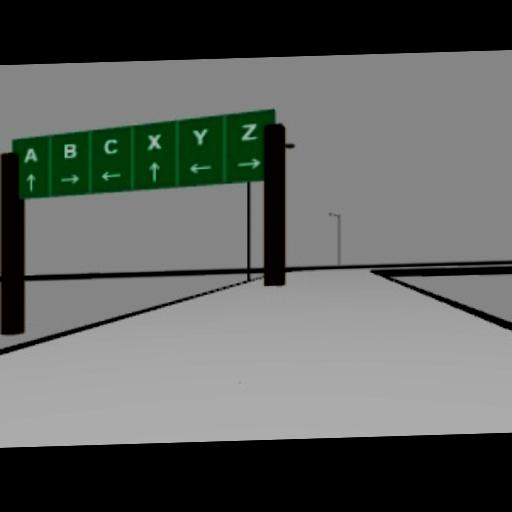A: (22, 146, 38, 162)
B: (63, 139, 77, 157)
C: (103, 137, 117, 152)
Left: (186, 161, 216, 173), (100, 169, 120, 180)
Right: (236, 156, 260, 169), (59, 172, 81, 184)
Straight: (147, 159, 159, 180), (26, 171, 36, 191)
X: (146, 133, 160, 148)
Y: (192, 125, 208, 145)
Z: (238, 121, 258, 140)
